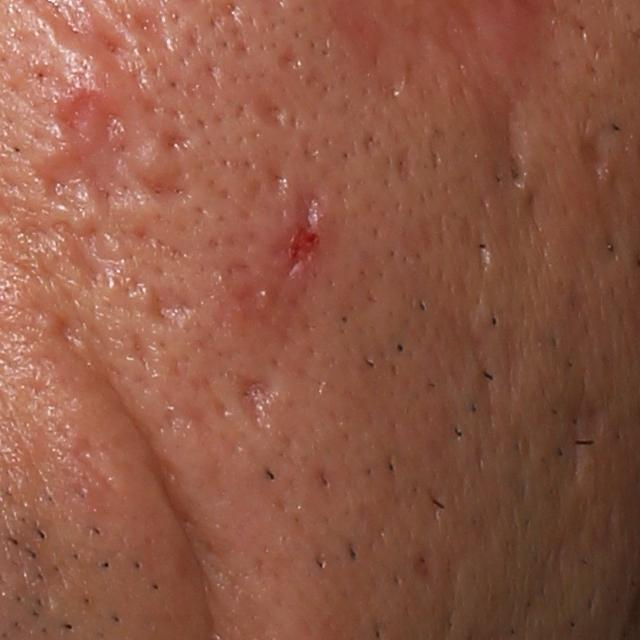atrophic_scar: (36, 94, 182, 200), (481, 98, 531, 209), (229, 279, 290, 350), (52, 219, 109, 292), (563, 393, 604, 486), (570, 126, 623, 181), (283, 194, 322, 263), (144, 284, 197, 329), (153, 119, 204, 161), (238, 375, 283, 420), (251, 99, 292, 135), (474, 230, 496, 279)
